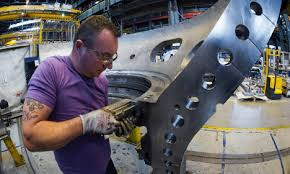noepi: (23, 16, 134, 174)
